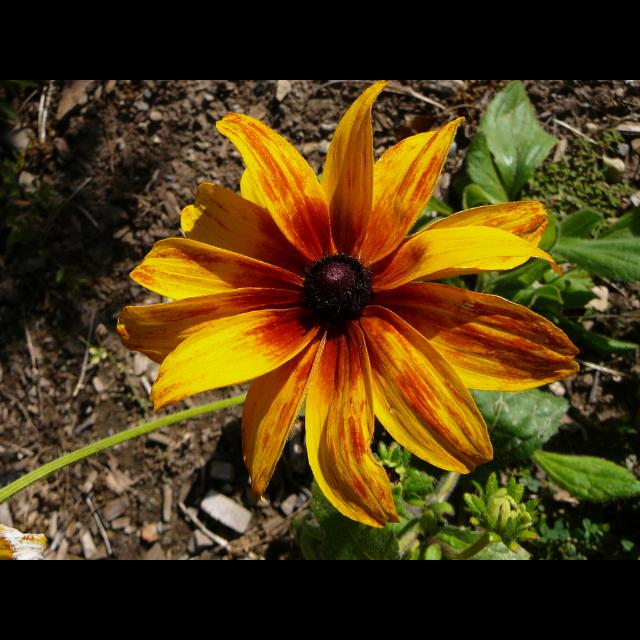Flower: (110, 83, 584, 539)
